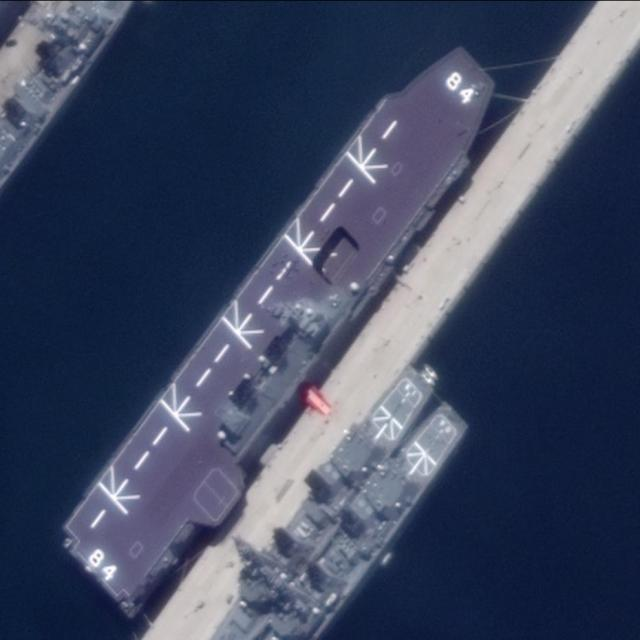Destroyer: (38, 25, 521, 621)
